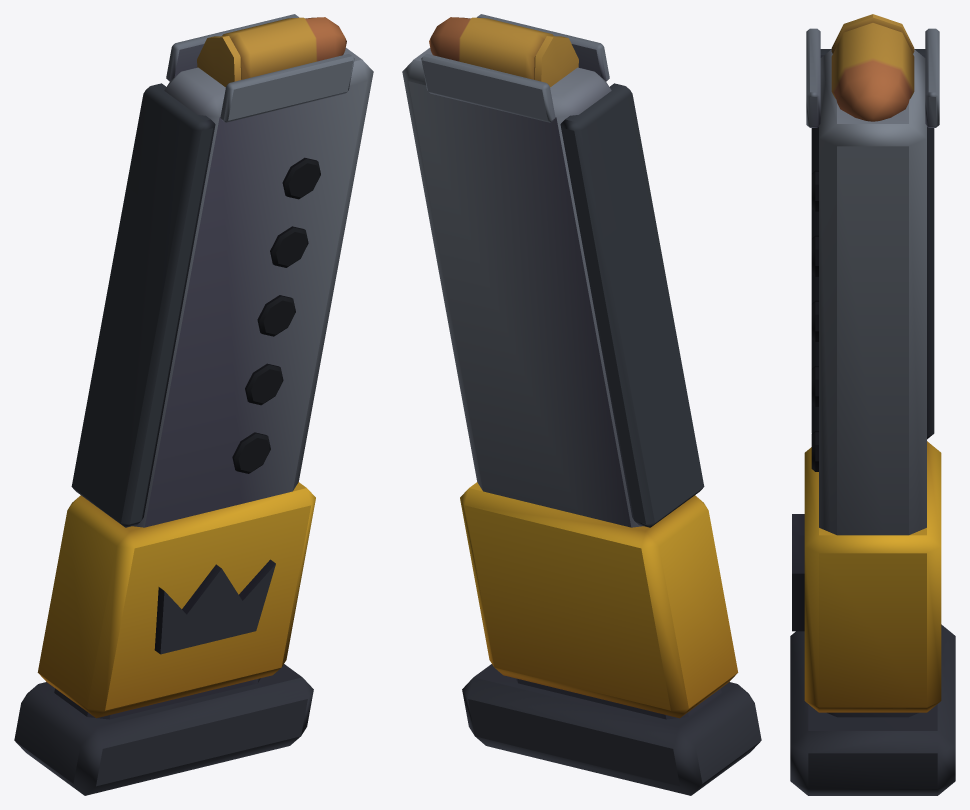
File: extmag.glb
3 renders of one model, left to right at view 1: azimuth 30°, elevation 25°; view 2: azimuth 150°, elevation 25°; view 3: azimuth 270°, elevation 25°, orthographic. The views are drawn at different scales.
Visible parts, largest first — view 1: extmag; view 2: extmag; view 3: extmag.
Part boxes in pixels (x1=…): extmag: x1=14, y1=14, x2=373, y2=795; extmag: x1=402, y1=14, x2=761, y2=795; extmag: x1=790, y1=14, x2=955, y2=795.
Size of the model in its own units: 0.11 by 0.2335 by 0.046.
